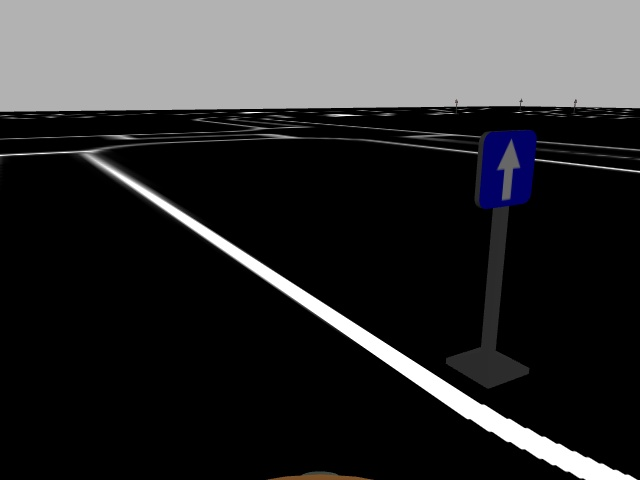oneway: (477, 128, 539, 211)
